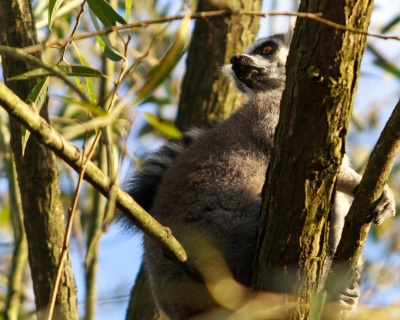Raccoon: (129, 27, 396, 319)
